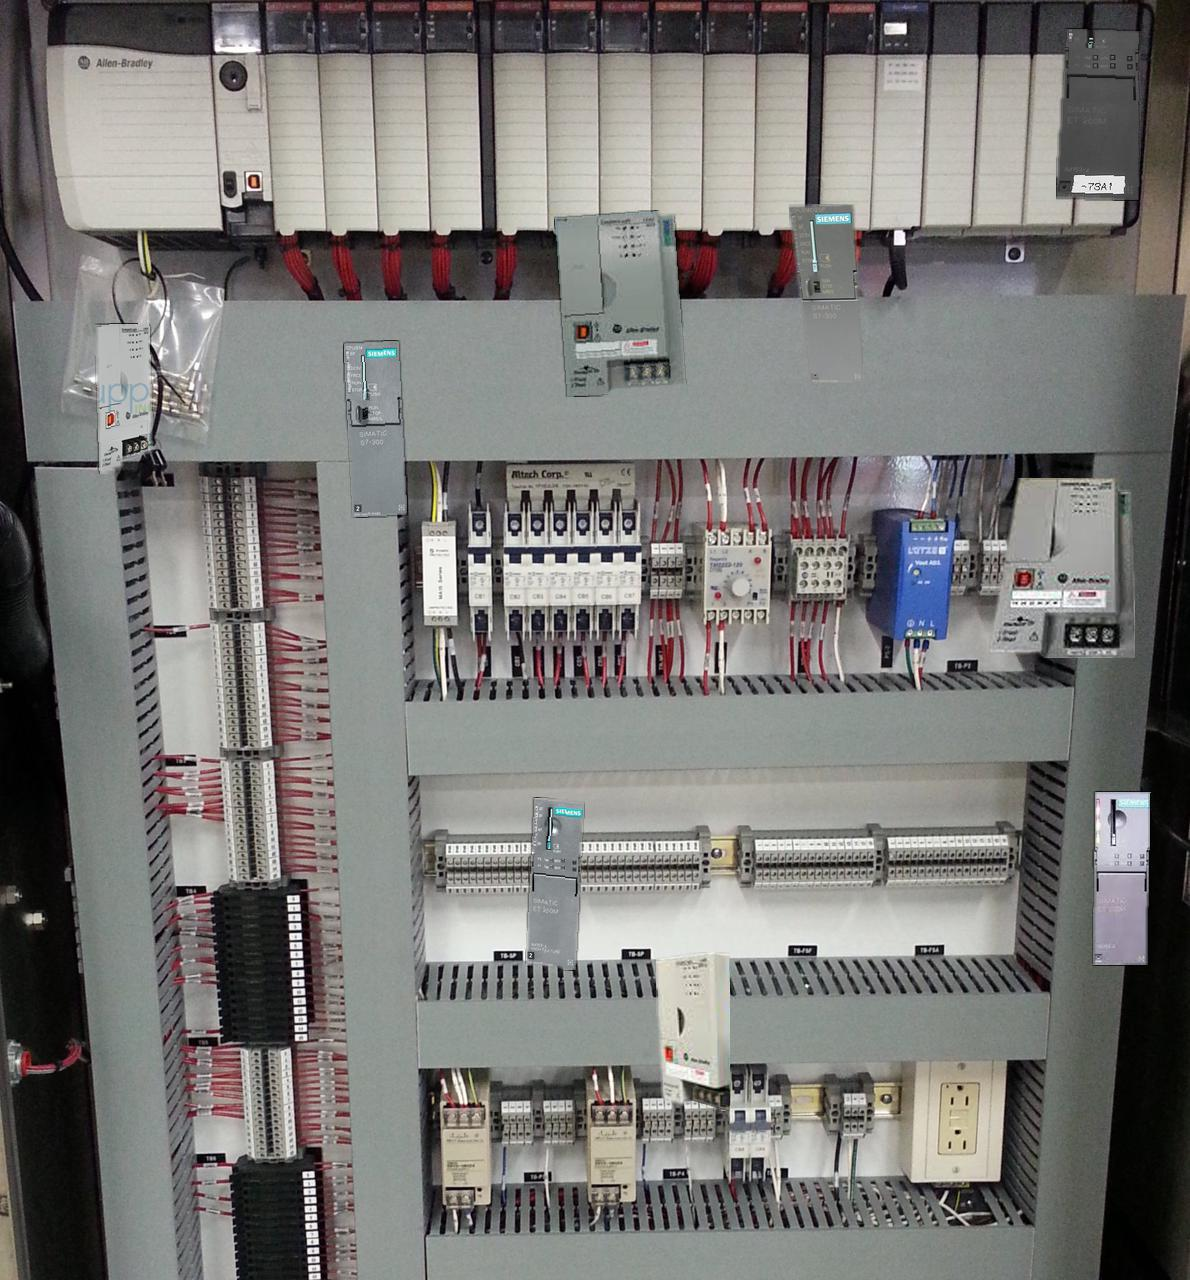AllenBradley: (989, 478, 1134, 657), (555, 211, 684, 396), (657, 952, 729, 1110), (96, 323, 151, 473)
Siemens: (788, 203, 862, 382), (344, 341, 406, 516)
